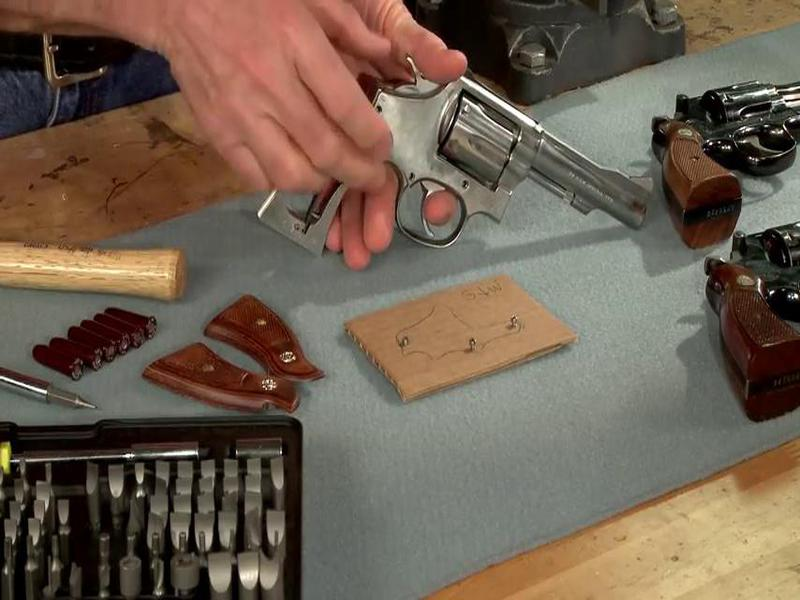Revolver: (243, 54, 681, 292)
